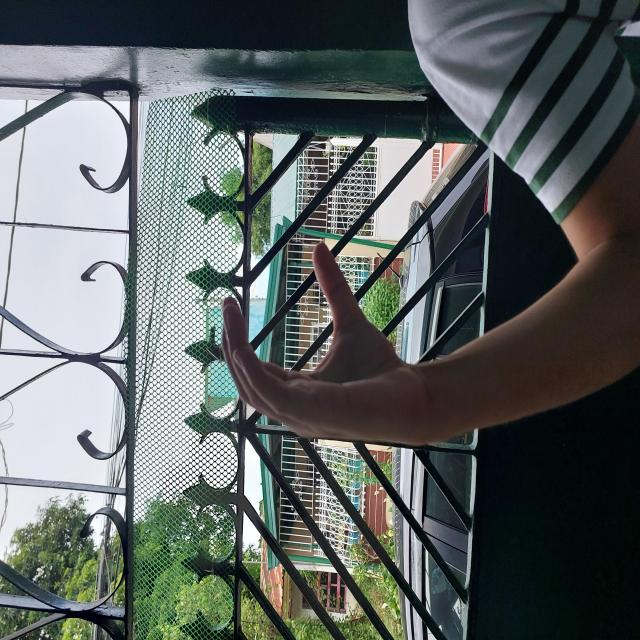C: (192, 218, 402, 433)
